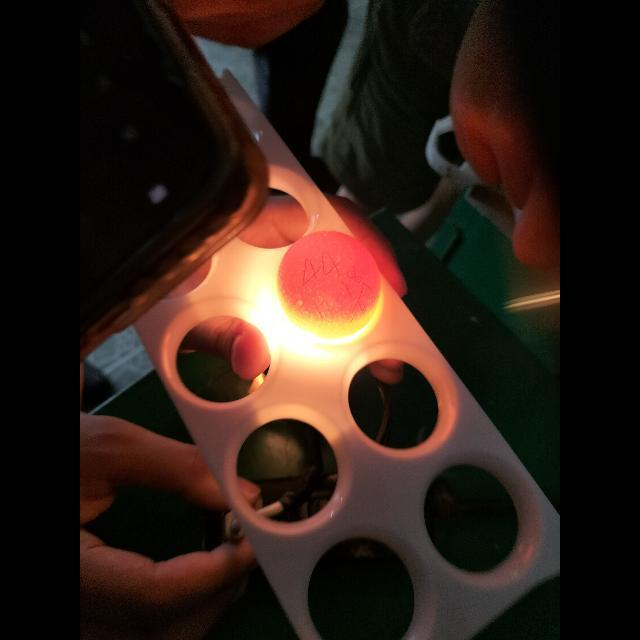Infertile: (268, 235, 384, 338)
